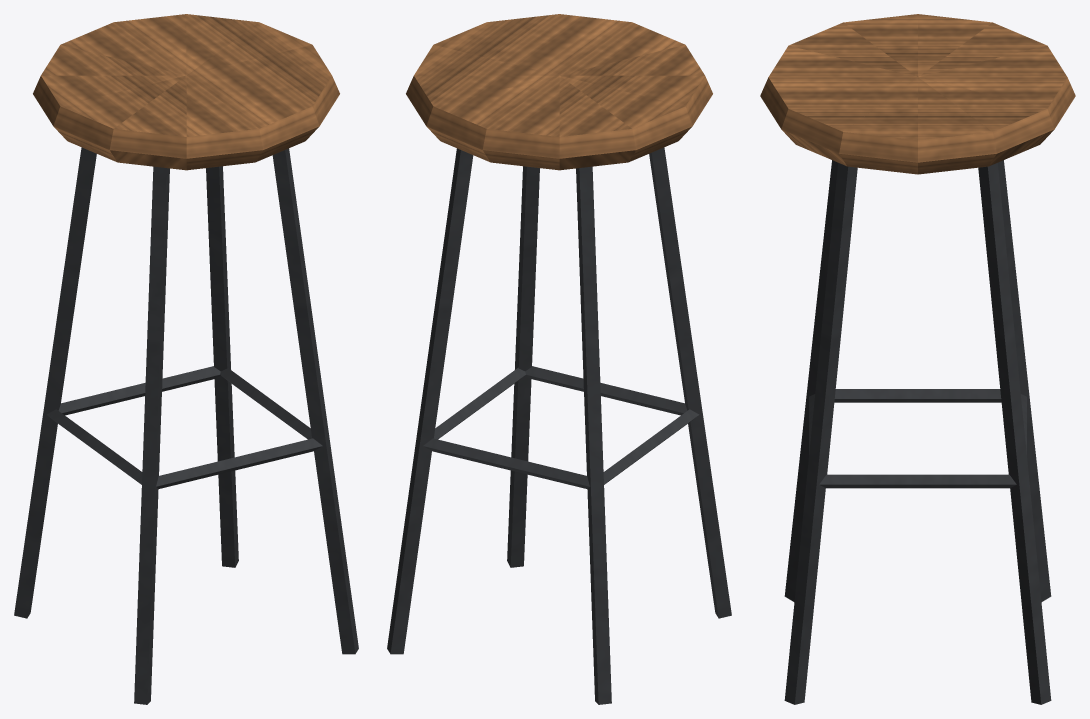
Rendered from SM_Morin_Sgabello.fbx.
3 renders of one model, left to right at view 1: azimuth 30°, elevation 25°; view 2: azimuth 150°, elevation 25°; view 3: azimuth 270°, elevation 25°, orthographic. The views are drawn at different scales.
Parts seen in each view (by area): view 1: SM_Morin_Sgabello; view 2: SM_Morin_Sgabello; view 3: SM_Morin_Sgabello.
Boxes of the visible parts, <box> form: SM_Morin_Sgabello: <box>14,14,358,704</box>; SM_Morin_Sgabello: <box>387,14,731,704</box>; SM_Morin_Sgabello: <box>760,14,1075,704</box>.
Size of what is drawn, in the model's own units: 38 by 38 by 76.11.
Materials: 1 (1 with a texture image).
